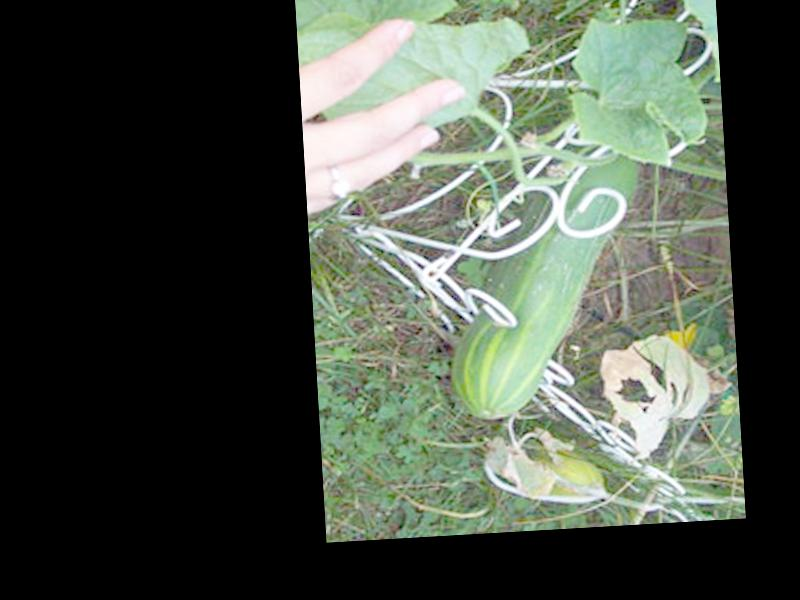Cucumber: (440, 150, 652, 420)
